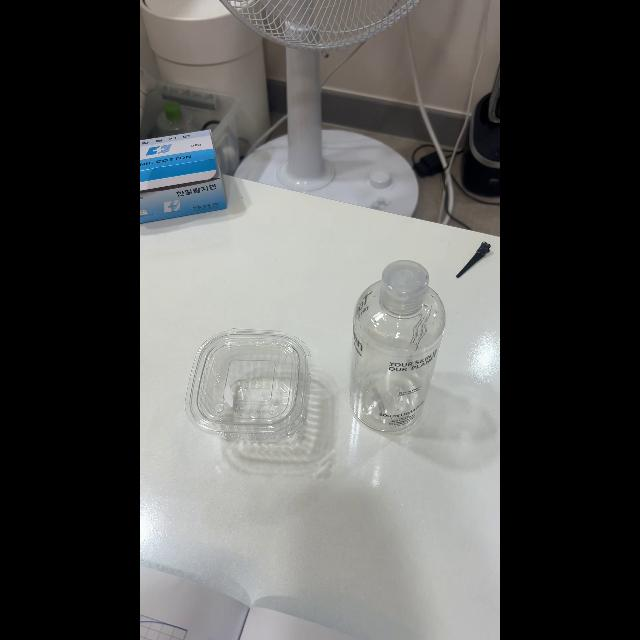clean: (349, 264, 447, 432), (194, 327, 314, 451)
